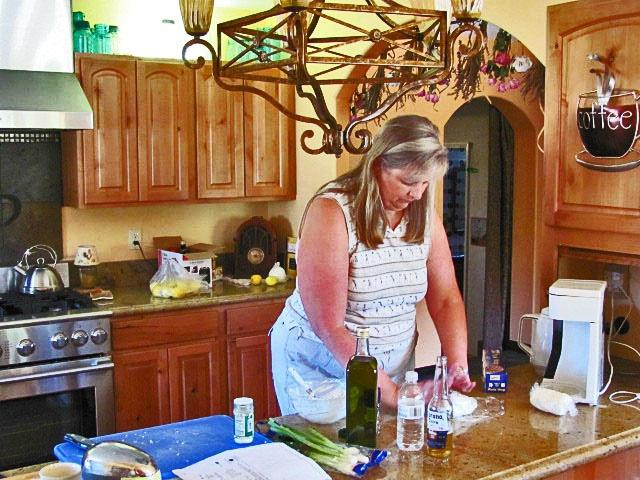Lemari: (61, 51, 296, 205)
